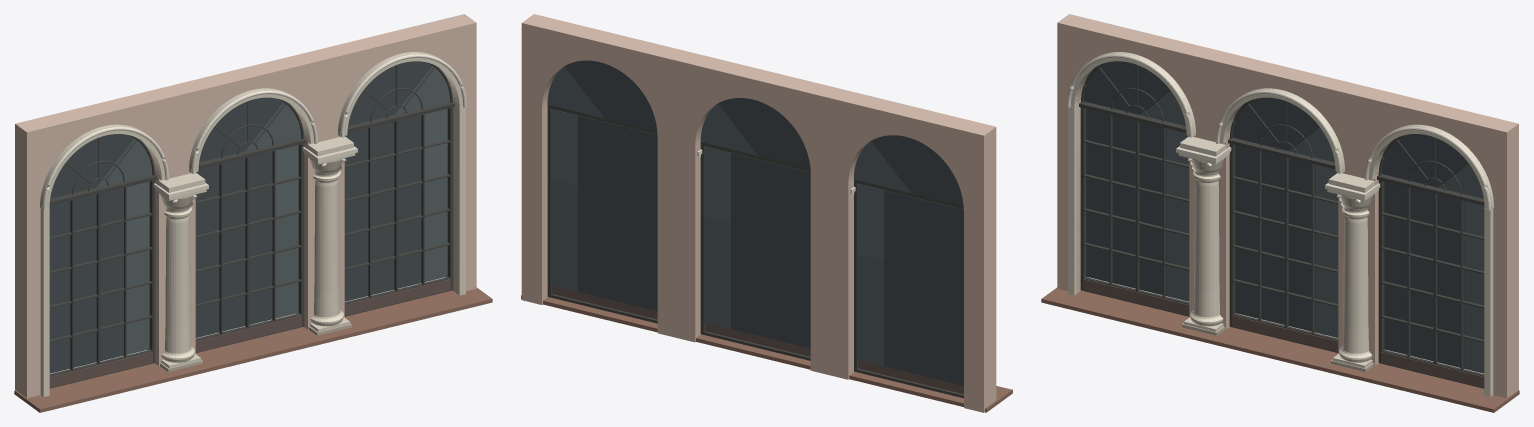
Rendered from xuhui-zhang-shuxun-garden-arcade-raw.glb.
3 views of the same model, side by side, from view 1: azimuth 30°, elevation 25°; view 2: azimuth 150°, elevation 25°; view 3: azimuth 330°, elevation 25° (orthographic). The views are drawn at different scales.
Visible parts, largest first — view 1: 张叔驯故居花园面三联钢窗券廊; view 2: 张叔驯故居花园面三联钢窗券廊; view 3: 张叔驯故居花园面三联钢窗券廊.
Part boxes in pixels (x1,y1,x2,y2): 张叔驯故居花园面三联钢窗券廊: [14, 14, 492, 412]; 张叔驯故居花园面三联钢窗券廊: [521, 14, 1012, 412]; 张叔驯故居花园面三联钢窗券廊: [1041, 14, 1519, 412].
Size of the model in its own units: 6.29 by 3.58 by 0.6355.
